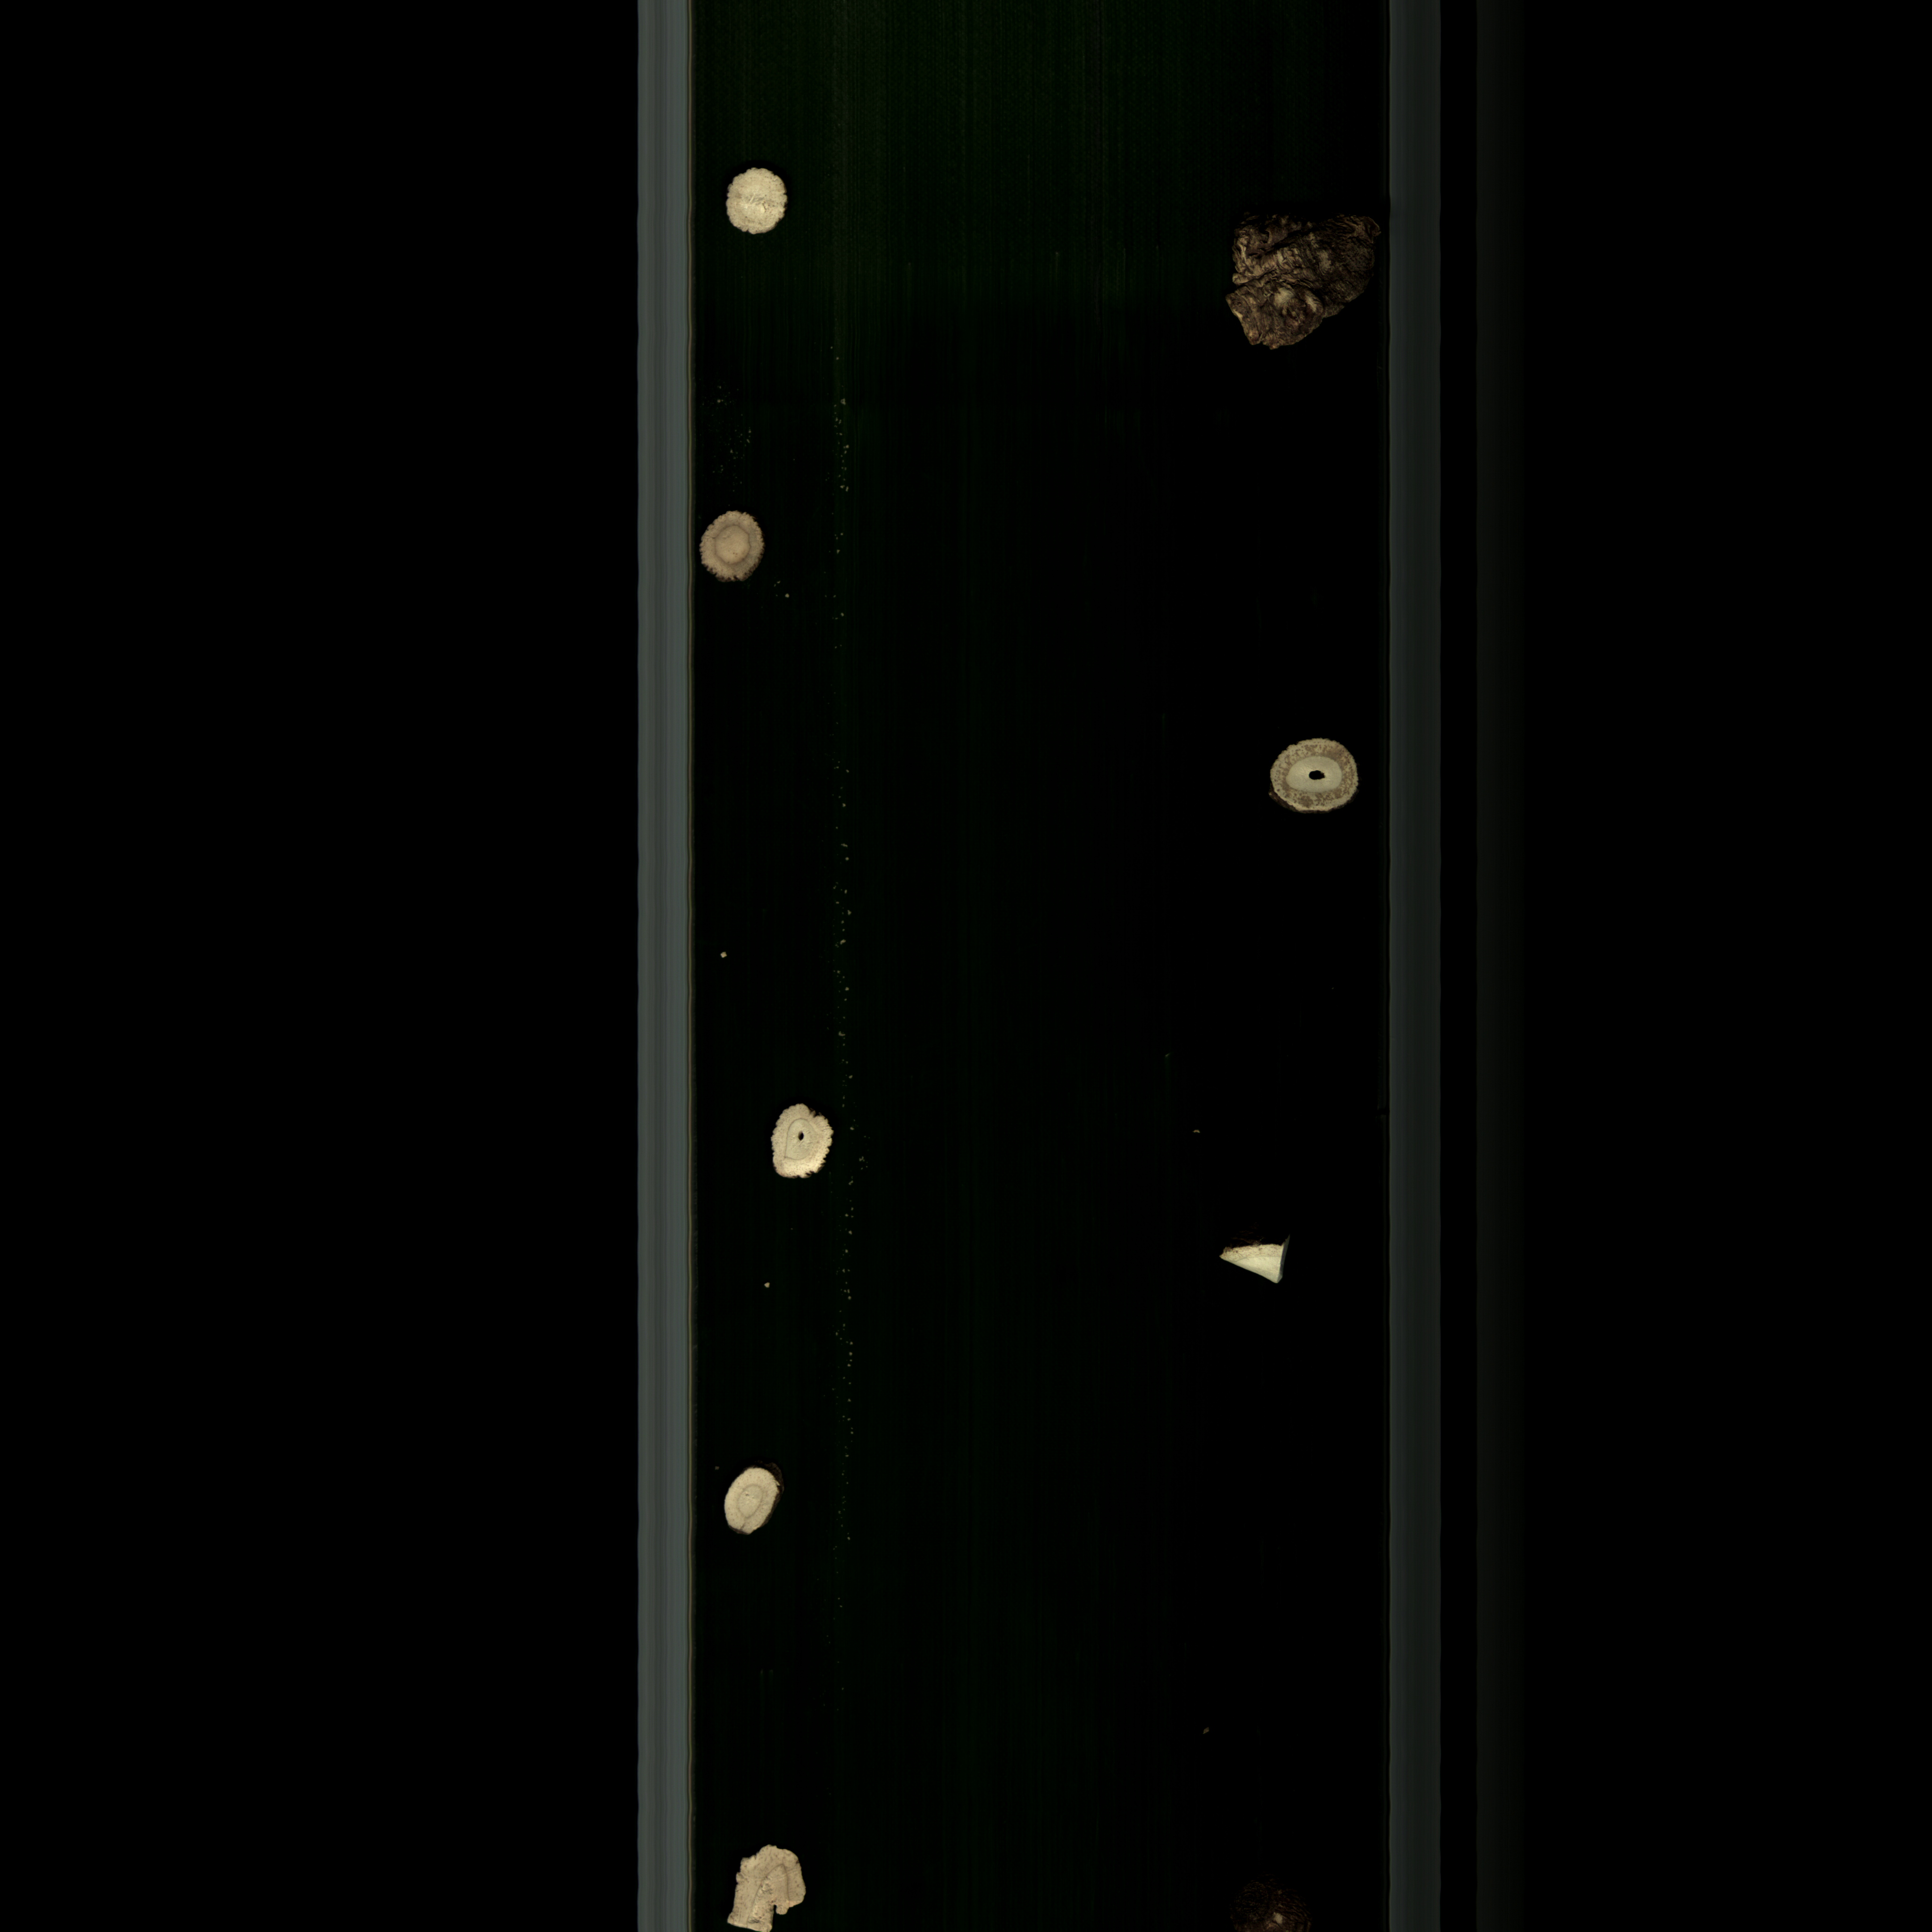bark: (1223, 196, 1380, 363)
debris: (718, 1831, 800, 1932)
distortion: (718, 1456, 786, 1550)
dreg: (1200, 1233, 1293, 1295)
hole: (748, 1086, 847, 1185), (1263, 731, 1362, 823)
moldy: (697, 499, 778, 586)
